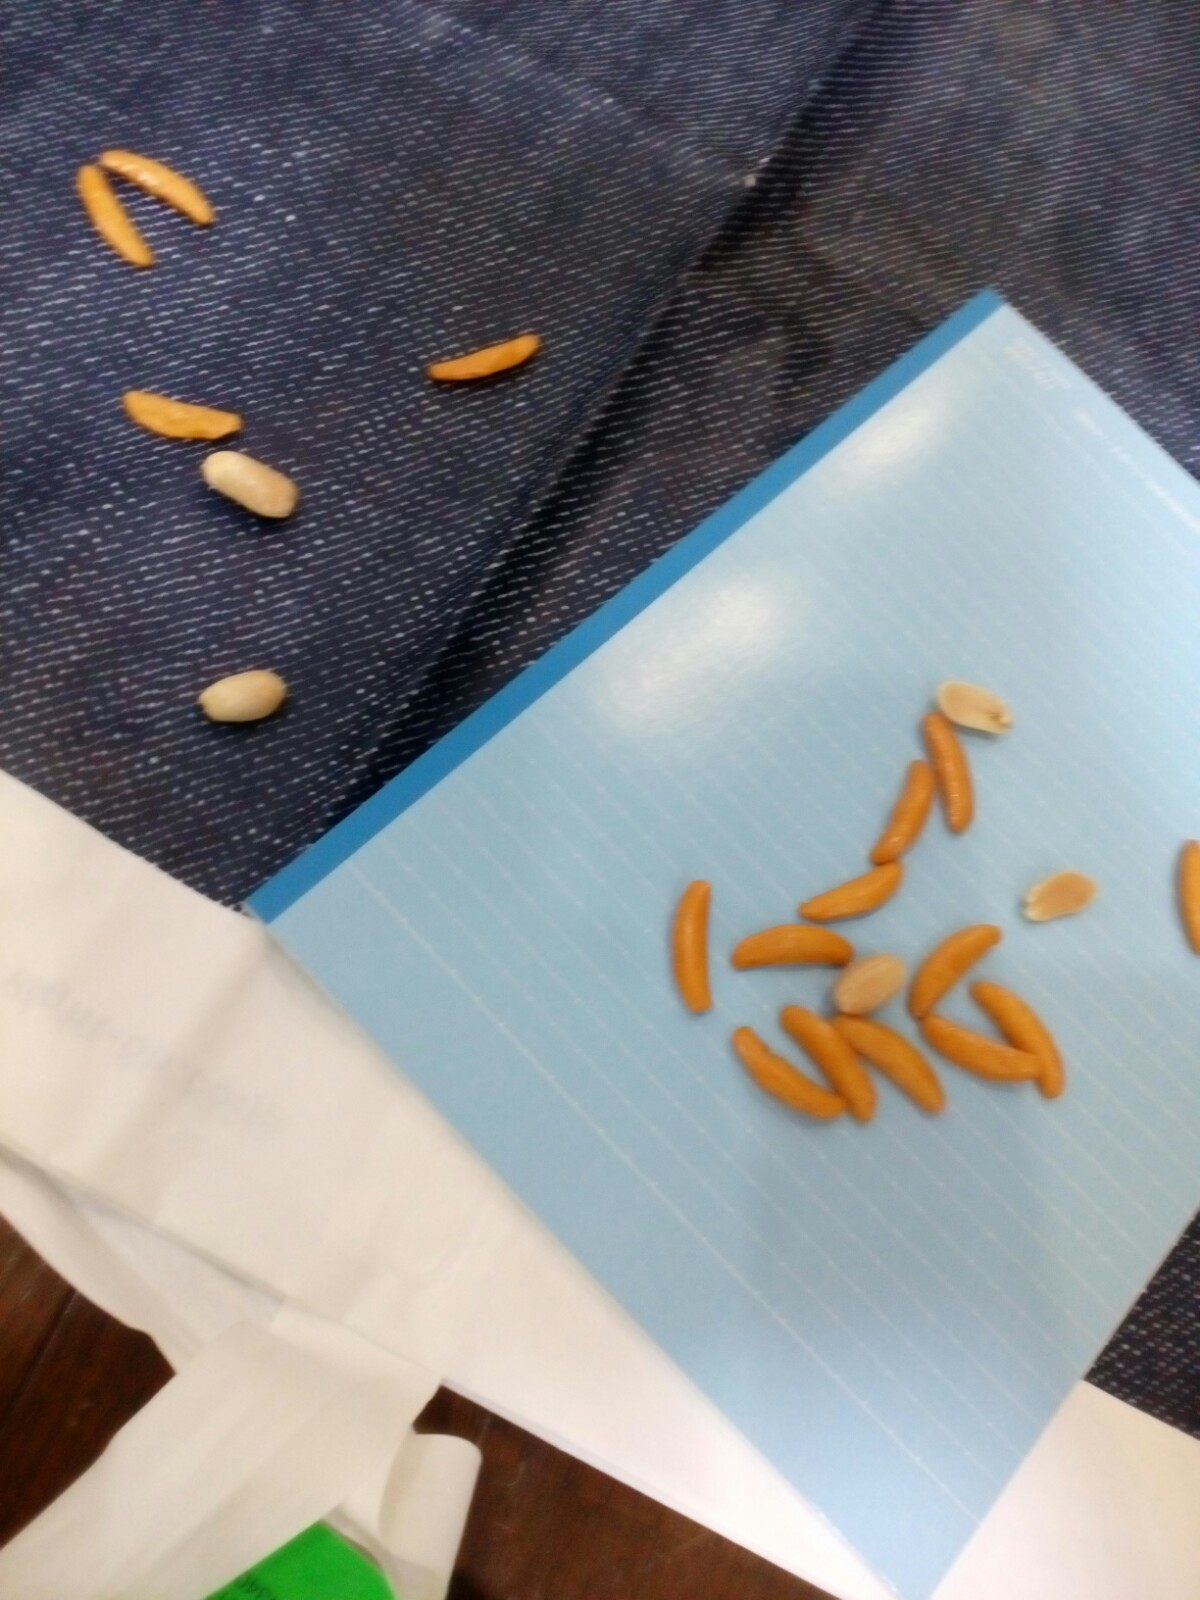peanut: (182, 438, 308, 527), (195, 659, 311, 731), (1016, 860, 1114, 939), (833, 947, 911, 1027), (933, 670, 1018, 740)
